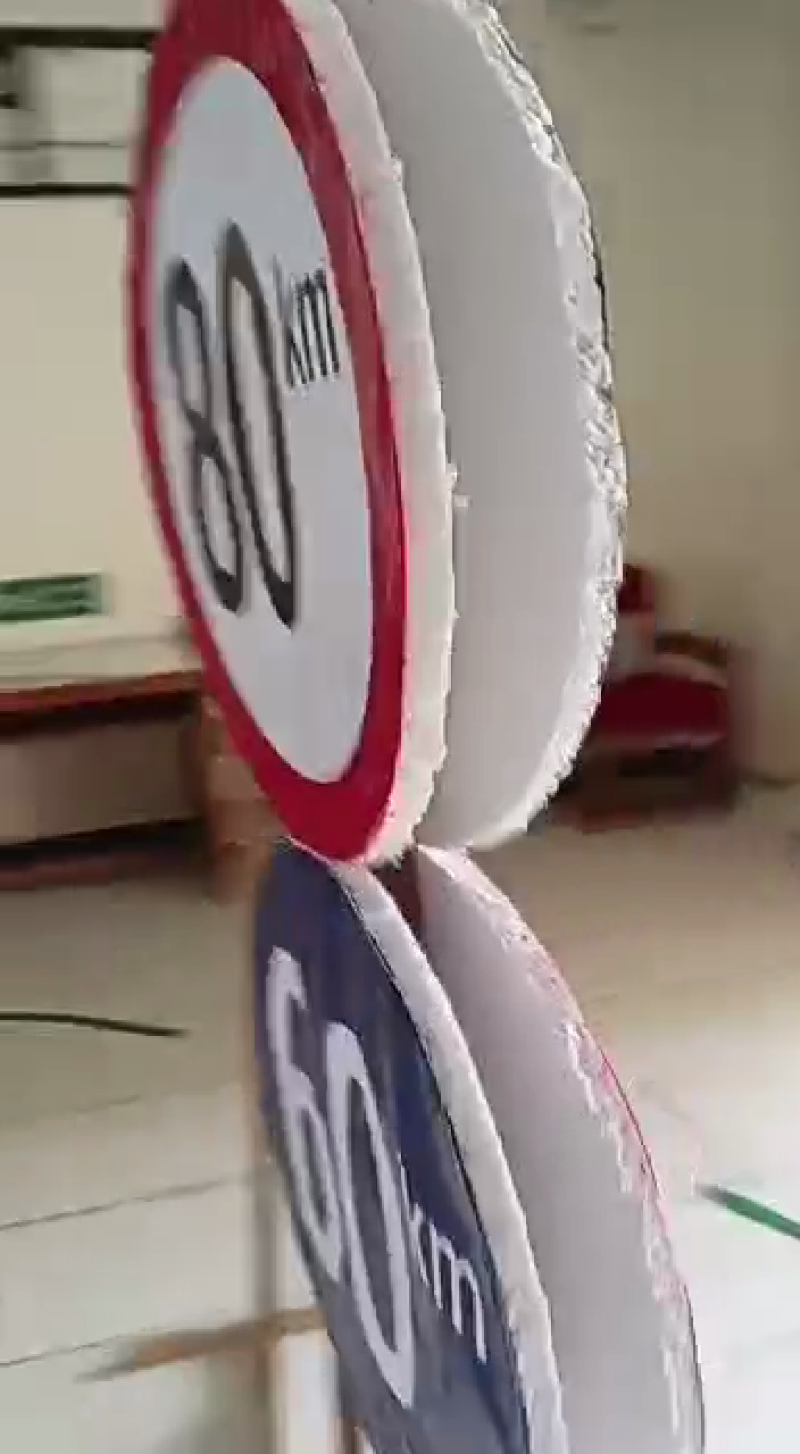batas maksimal 80kmperjam minimal 60kmperjam: (94, 2, 608, 1454)
